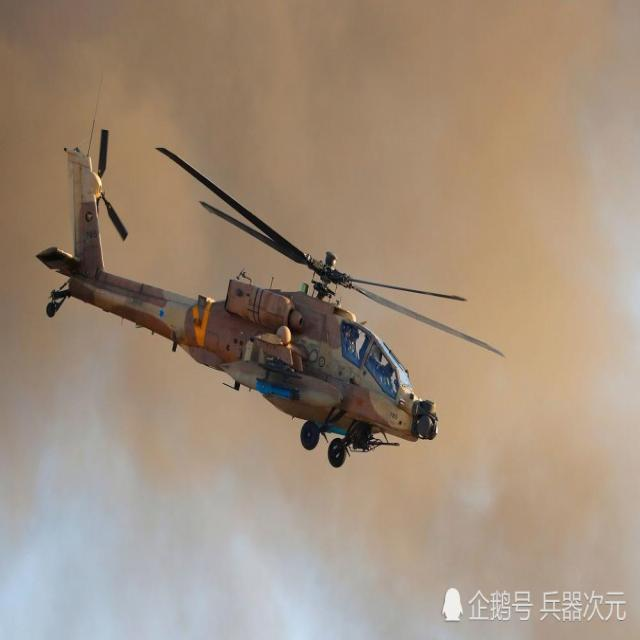MIL_HELO: (44, 114, 480, 483)
